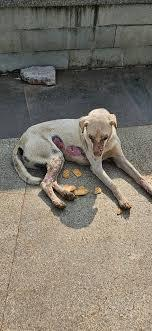cut: (39, 131, 101, 167)
